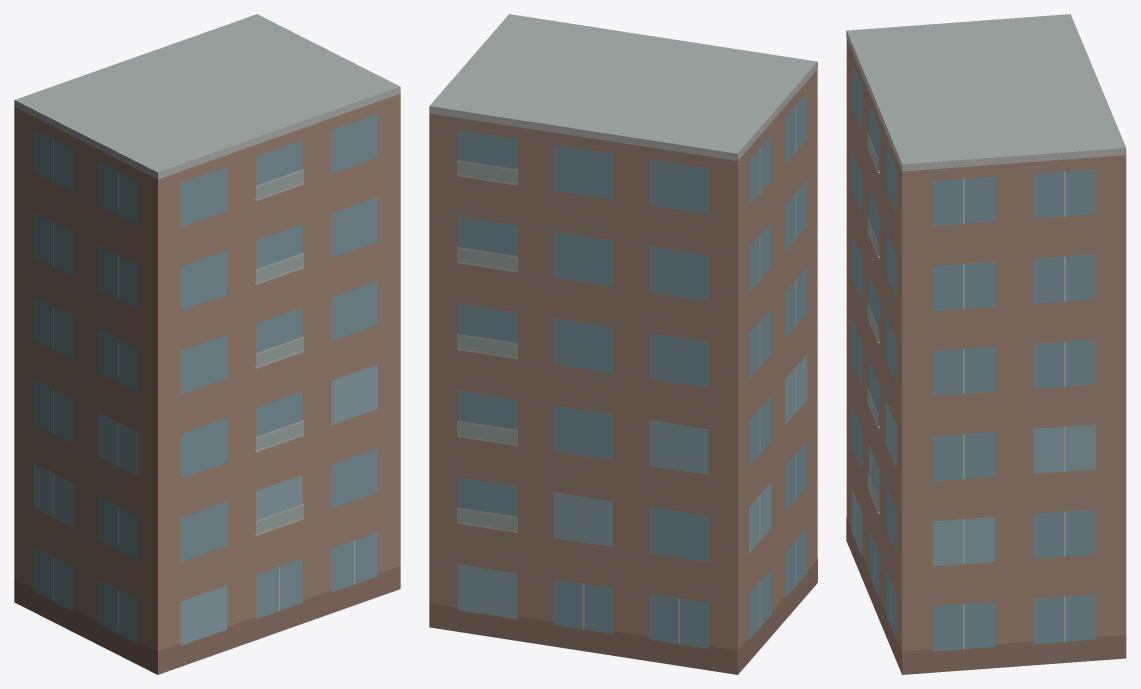
The model's file is survey-upis-32991683.glb.
3 views of the same model, side by side, from view 1: azimuth 30°, elevation 25°; view 2: azimuth 150°, elevation 25°; view 3: azimuth 270°, elevation 25° (orthographic). The views are drawn at different scales.
Parts seen in each view (by area): view 1: survey-upis-32991683.tmp; view 2: survey-upis-32991683.tmp; view 3: survey-upis-32991683.tmp.
Boxes of the visible parts, left/top/right/bottom form: survey-upis-32991683.tmp: left=14, top=14, right=400, bottom=674; survey-upis-32991683.tmp: left=429, top=14, right=817, bottom=674; survey-upis-32991683.tmp: left=846, top=14, right=1126, bottom=674.
Bounding box in the file's own units: 11.07 × 17.5 × 8.7.
